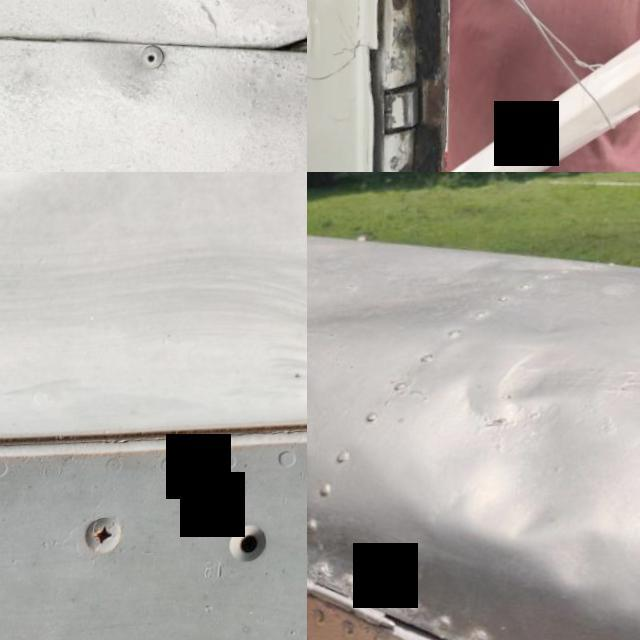Crack: (307, 0, 398, 172)
Dent: (393, 333, 640, 582), (539, 516, 640, 628)
Missing_Fastener: (208, 501, 294, 599)
